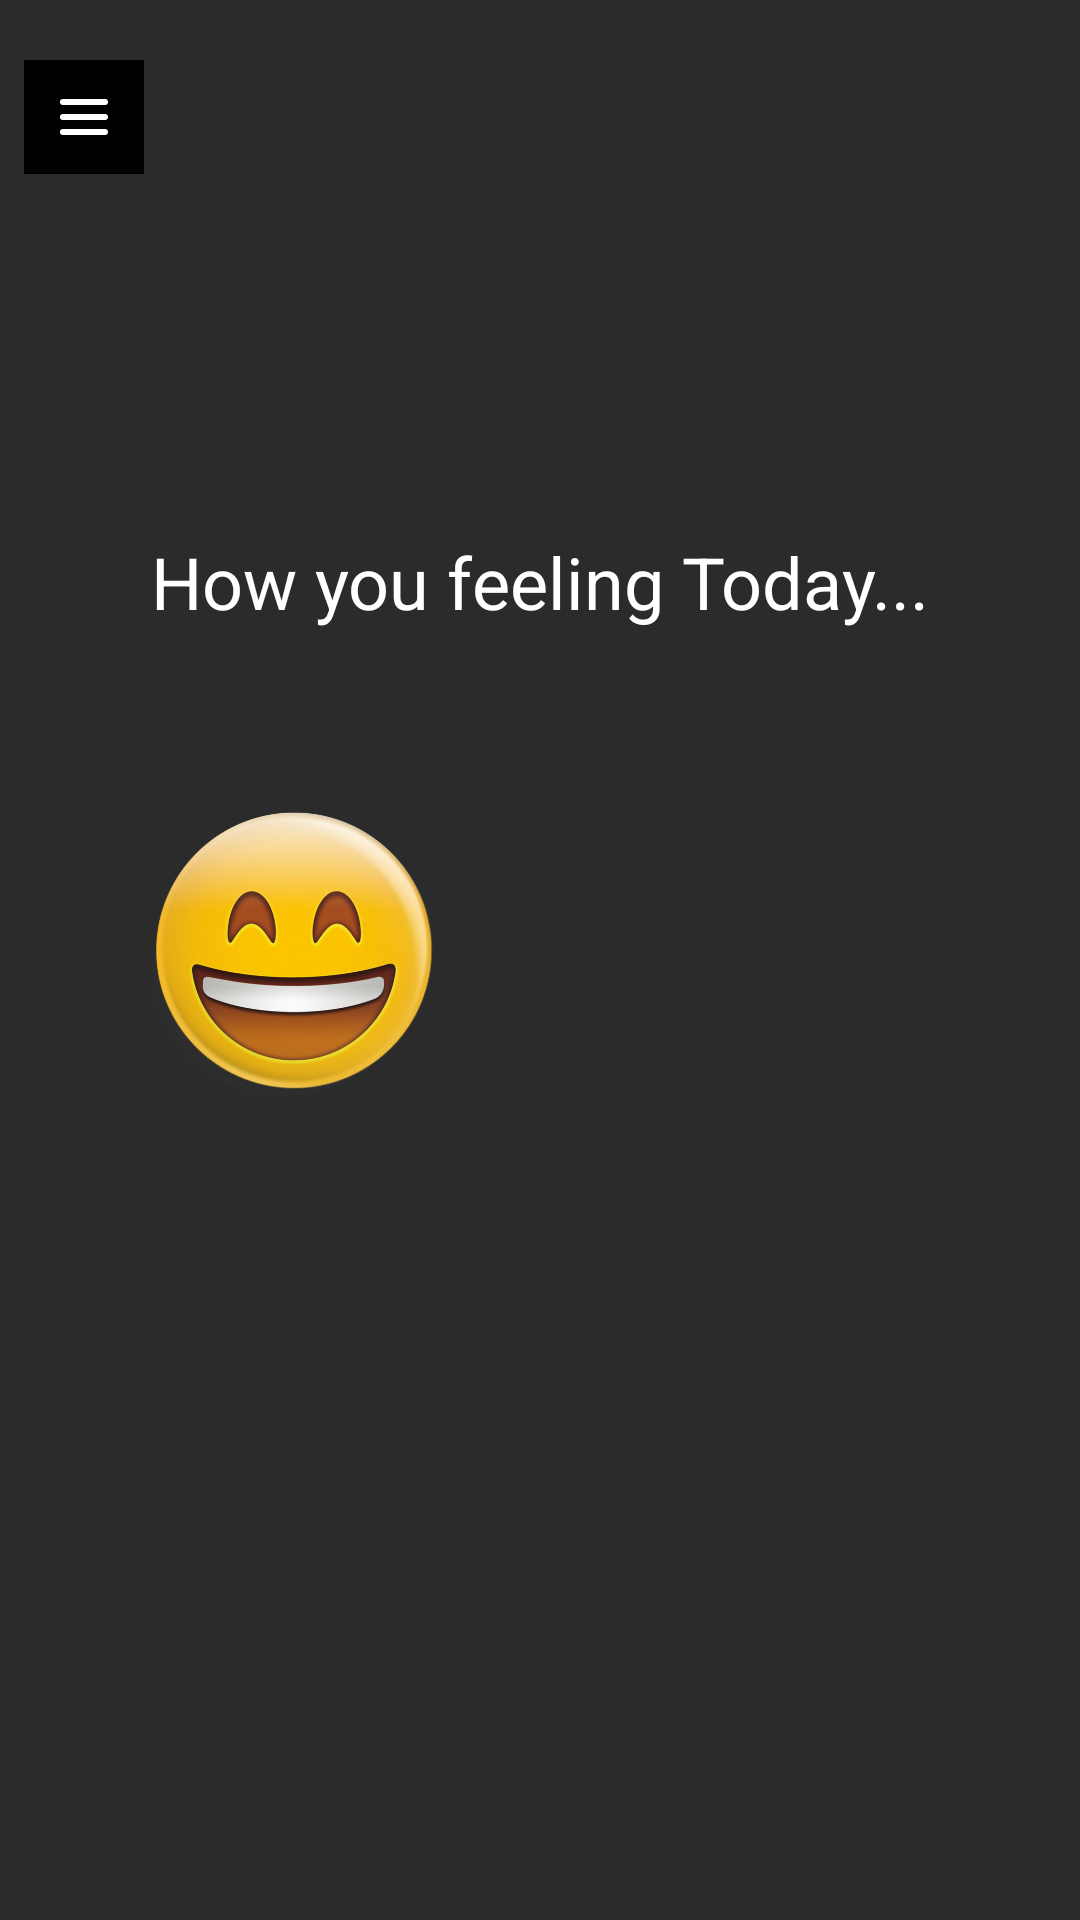

Icon click points for this 1080 × 1920 phone screenshot, format [x,y]:
happy: [294,950]
menu: [84,117]
